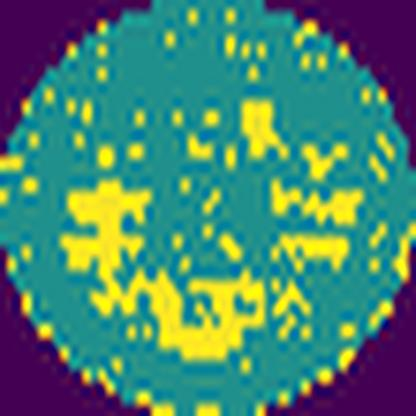Donut: (63, 82, 372, 367)
